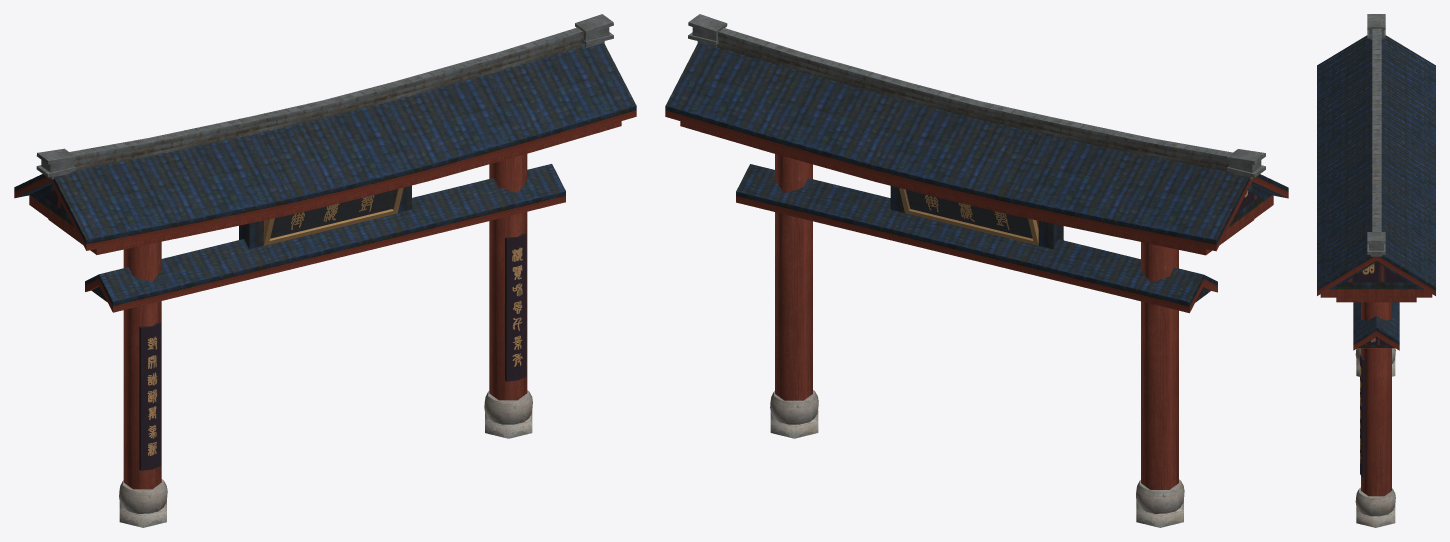
The model's file is jn_men01.FBX.
3 views of the same model, side by side, from view 1: azimuth 30°, elevation 25°; view 2: azimuth 150°, elevation 25°; view 3: azimuth 270°, elevation 25° (orthographic). The views are drawn at different scales.
Parts seen in each view (by area): view 1: jn_men01; view 2: jn_men01; view 3: jn_men01.
Part boxes in pixels (left/top/right/bottom): jn_men01: left=14, top=14, right=636, bottom=527; jn_men01: left=665, top=14, right=1288, bottom=527; jn_men01: left=1317, top=14, right=1435, bottom=527.
Bounding box in the file's own units: 1032 × 670 × 227.
